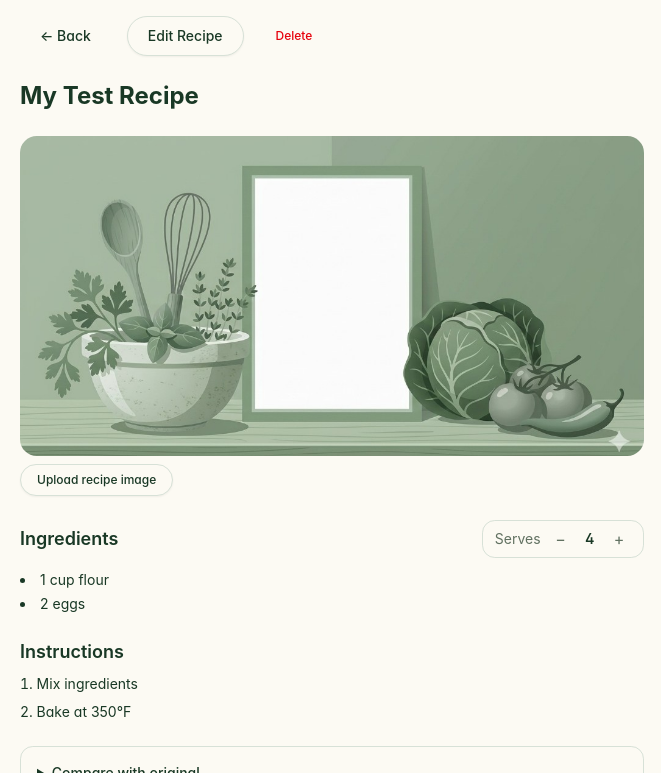
Test: RecipeDetailPage › shows error alert when save fails
Expected: the heading "My Test Recipe" is shown, [20,81,199,110]
Click the button "Edit Recipe" at (185, 36), box [127,16,244,56]
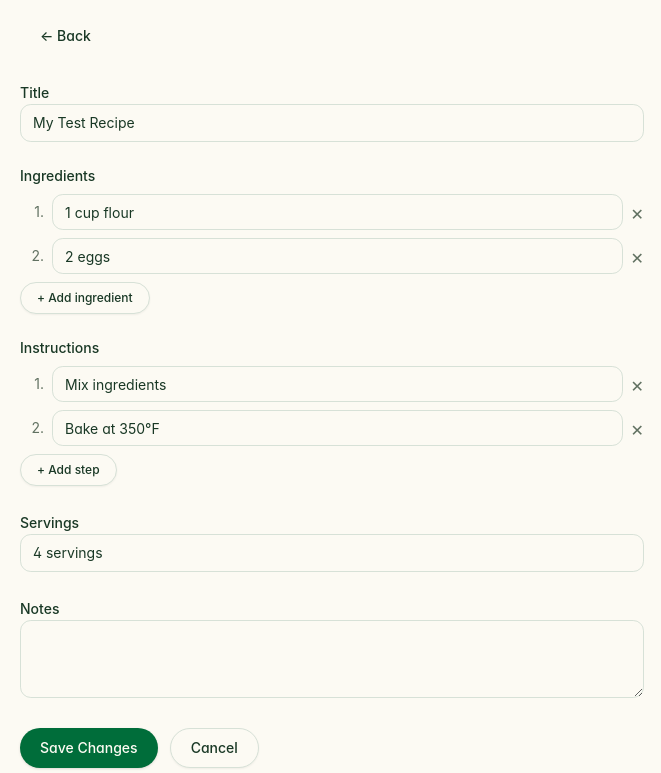
Click the button "Save Changes" at (89, 748), box [20,728,158,768]
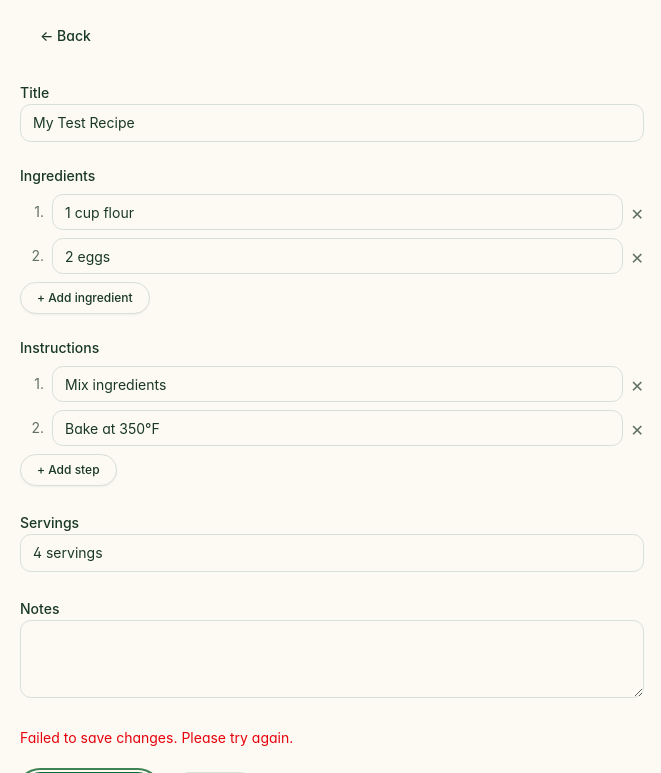
Expected: the message "Failed to save changes. Please try again." is shown, [20,729,293,746]
